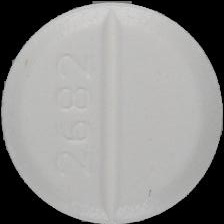16590-069: (0, 0, 224, 224)
